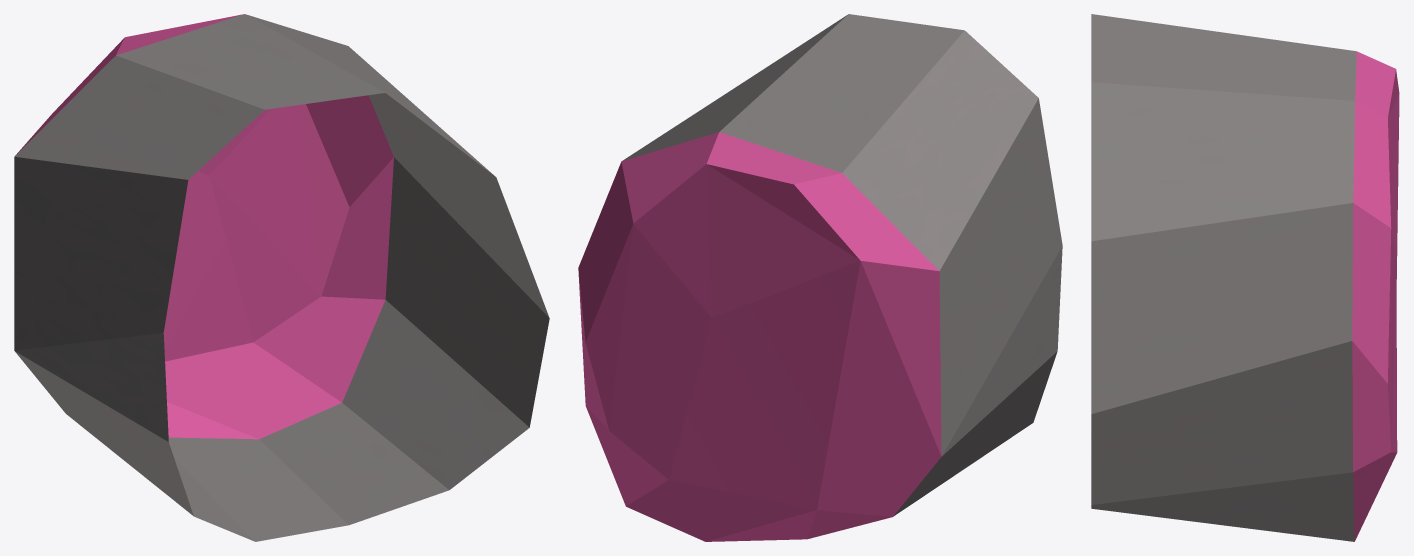
File: Rock_Pink.fbx
3 renders of one model, left to right at view 1: azimuth 30°, elevation 25°; view 2: azimuth 150°, elevation 25°; view 3: azimuth 270°, elevation 25°, orthographic. The views are drawn at different scales.
Parts seen in each view (by area): view 1: Rock_Pink; view 2: Rock_Pink; view 3: Rock_Pink.
Part boxes in pixels (<box>): Rock_Pink: <box>14,14,549,541</box>; Rock_Pink: <box>578,14,1062,541</box>; Rock_Pink: <box>1091,14,1399,541</box>.
Size of the model in its own units: 2.05 by 2.28 by 1.43.
Materials: 1 (1 with a texture image).
